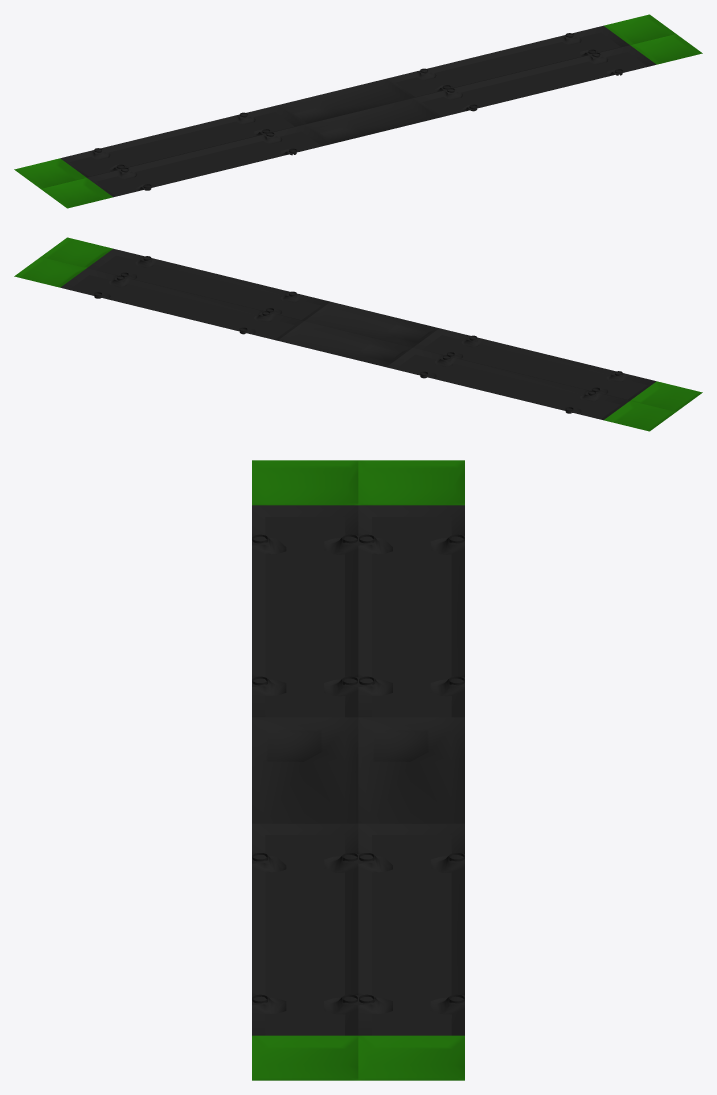
File: Building_B_Room_A_Ceiling_C.fbx
3 views of the same model, one above another, from view 1: azimuth 30°, elevation 25°; view 2: azimuth 150°, elevation 25°; view 3: azimuth 270°, elevation 25° (orthographic). The views are drawn at different scales.
Parts seen in each view (by area): view 1: Geom_Building_B_Room_A_Ceiling_C_LOD00; view 2: Geom_Building_B_Room_A_Ceiling_C_LOD00; view 3: Geom_Building_B_Room_A_Ceiling_C_LOD00.
Boxes of the visible parts, <box> form: Geom_Building_B_Room_A_Ceiling_C_LOD00: <box>14,14,702,208</box>; Geom_Building_B_Room_A_Ceiling_C_LOD00: <box>14,237,702,431</box>; Geom_Building_B_Room_A_Ceiling_C_LOD00: <box>252,460,464,1080</box>.
Size of what is drawn, in the model's own units: 2340 by 19.53 by 340.
